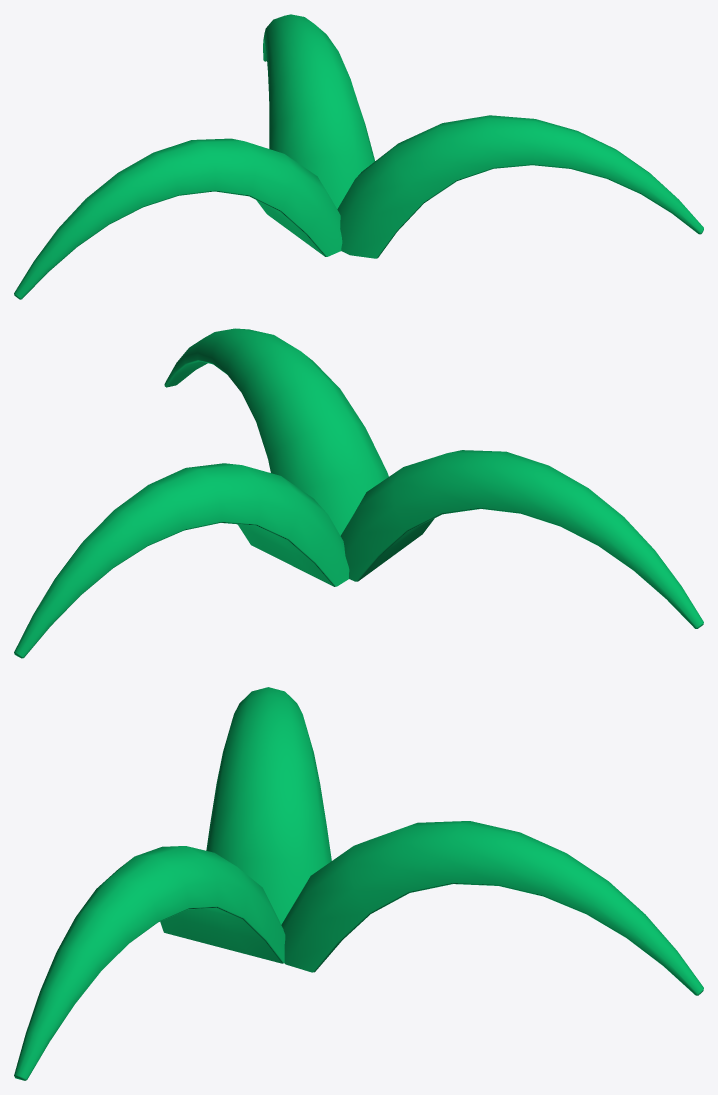
Rendered from City_10_Grass_4.glb.
3 views of the same model, one above another, from view 1: azimuth 30°, elevation 25°; view 2: azimuth 150°, elevation 25°; view 3: azimuth 270°, elevation 25° (orthographic). The views are drawn at different scales.
Parts seen in each view (by area): view 1: City_10_Grass_4; view 2: City_10_Grass_4; view 3: City_10_Grass_4.
Boxes of the visible parts, x1,y1,x2,y2 form: City_10_Grass_4: (14, 14, 703, 299); City_10_Grass_4: (14, 328, 703, 658); City_10_Grass_4: (14, 687, 703, 1080).
Bounding box in the file's own units: 1.09 × 0.2061 × 0.9263.
1 material, 1 textured.
